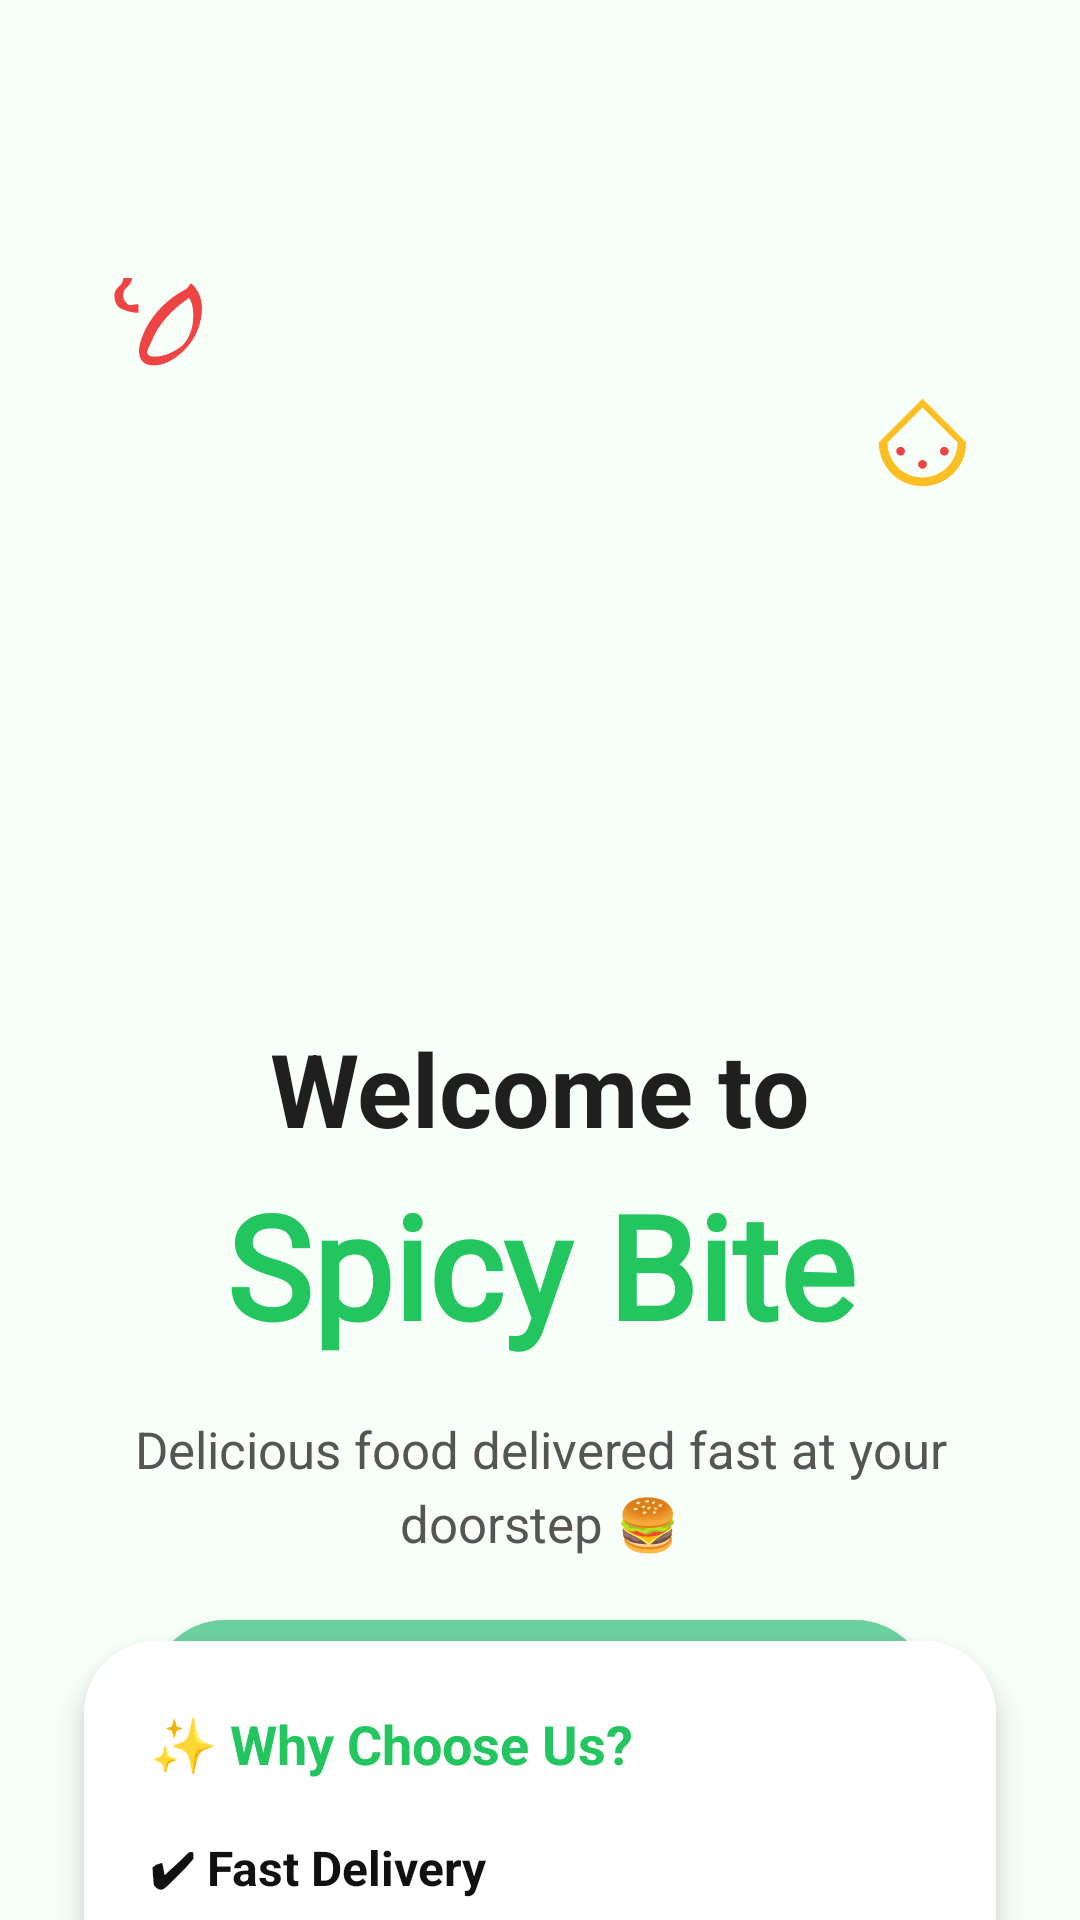

Point at icon controls on the screen. Image size 1080 x 1920, points as (x=x, y=y).
chilli: (x=158, y=322)
pizza: (x=922, y=443)
